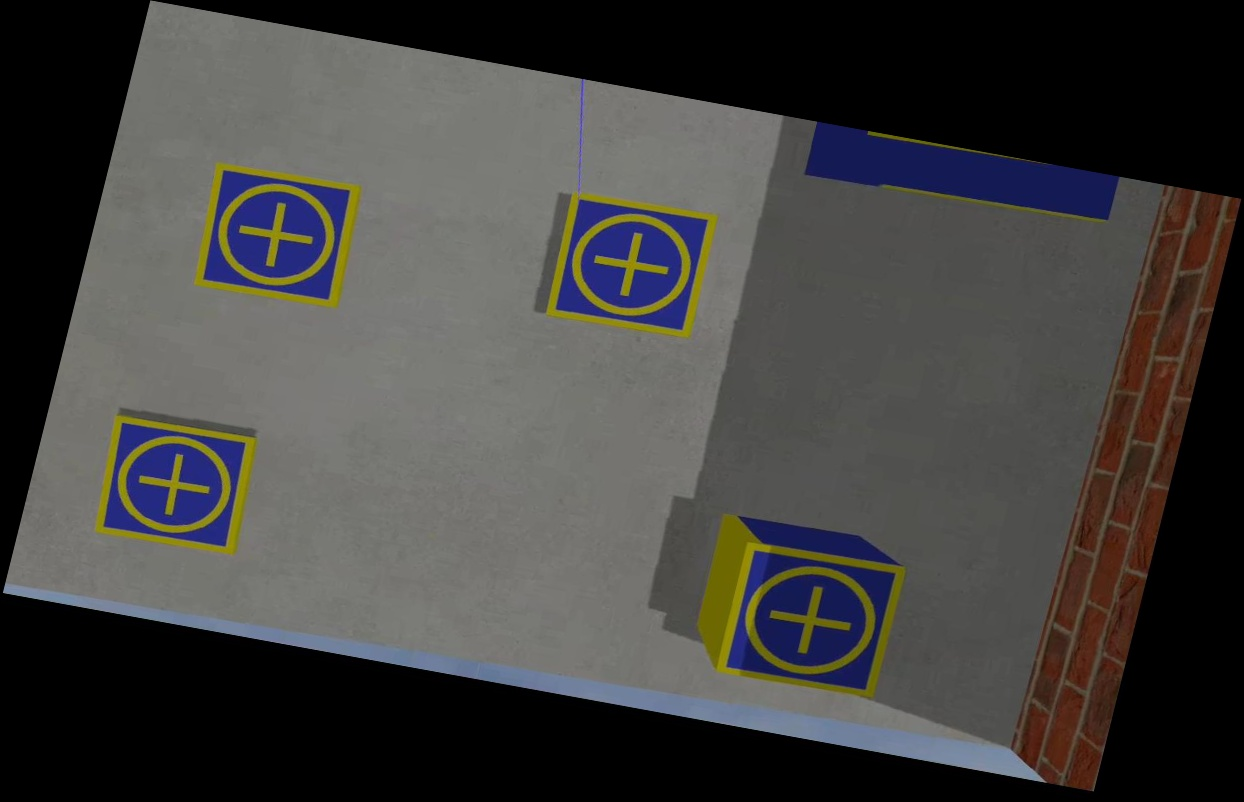small_base: (709, 536, 906, 703), (540, 187, 724, 341), (183, 160, 367, 310), (85, 411, 265, 560)
